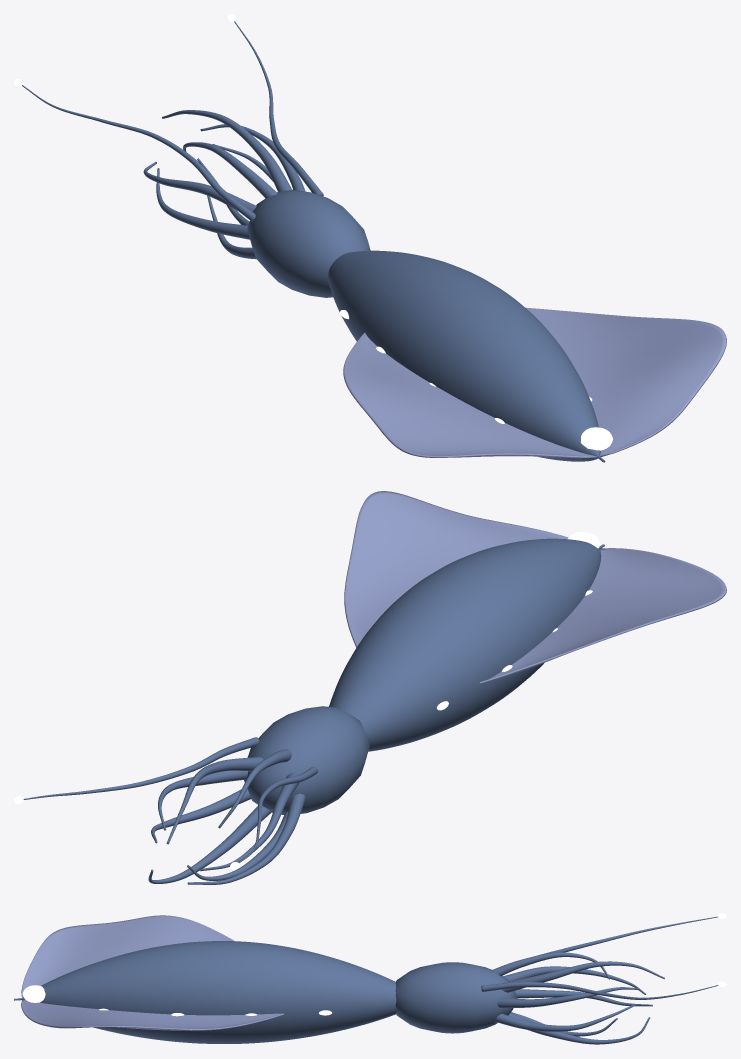
3 renders of one model, top to bottom at view 1: azimuth 30°, elevation 25°; view 2: azimuth 150°, elevation 25°; view 3: azimuth 270°, elevation 25°, orthographic. The views are drawn at different scales.
Visible parts, largest first — view 1: RIMWARD_HULL; view 2: RIMWARD_HULL; view 3: RIMWARD_HULL, RIMWARD_ENGINE_GLOW, RIMWARD_EMISSIVE.
Part boxes in pixels (box(x1,y1,x2,y2)): RIMWARD_HULL: box(22, 21, 726, 462); RIMWARD_HULL: box(23, 491, 726, 884); RIMWARD_HULL: box(14, 915, 718, 1044); RIMWARD_ENGINE_GLOW: box(22, 985, 45, 1002); RIMWARD_EMISSIVE: box(99, 913, 726, 1016).
Bounding box in the file's own units: 2.92 × 1.05 × 7.2.
